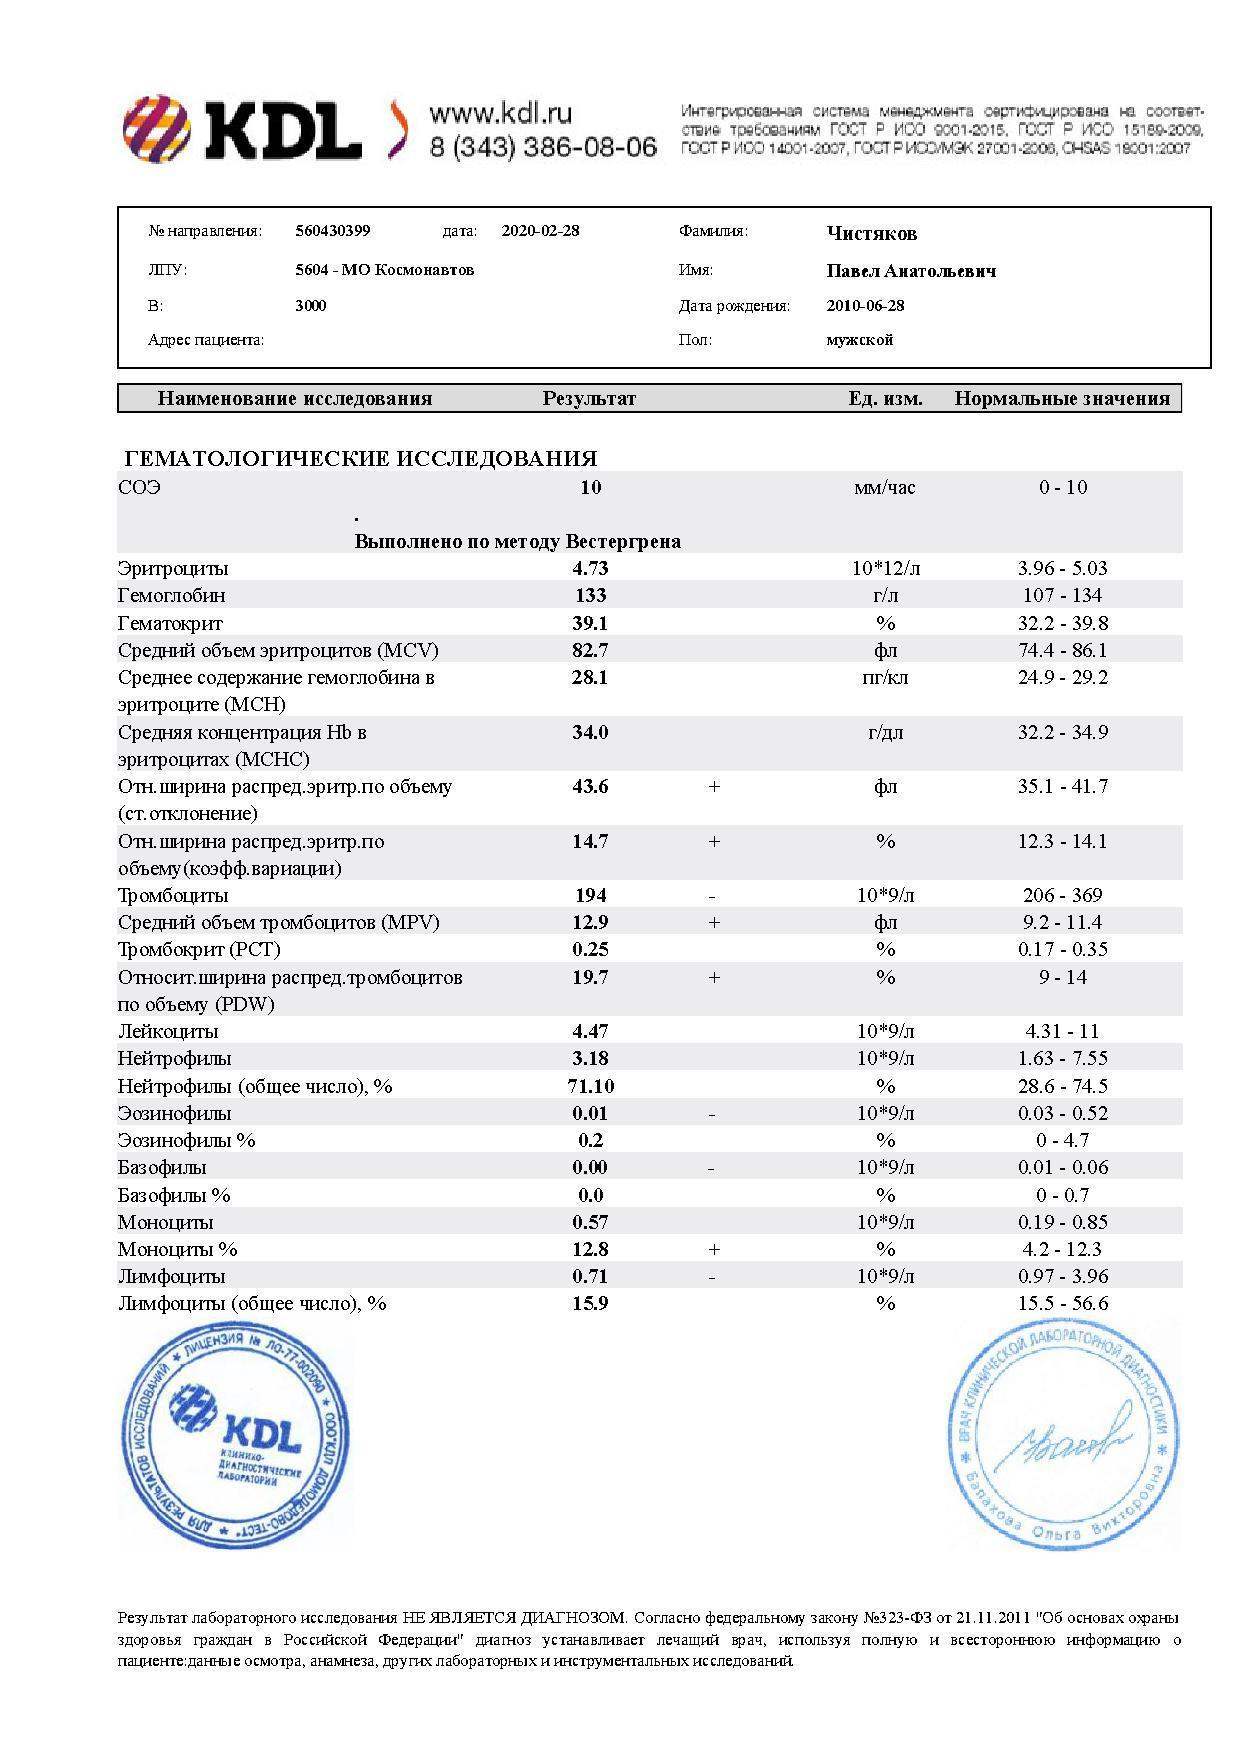column: (117, 558, 462, 1314), (1019, 558, 1108, 1314), (854, 558, 921, 1314), (568, 558, 615, 1314), (157, 391, 432, 409), (954, 391, 1170, 409), (542, 391, 636, 409), (848, 391, 922, 409), (854, 479, 915, 494), (1039, 479, 1087, 494), (118, 479, 160, 494), (581, 479, 601, 494)
